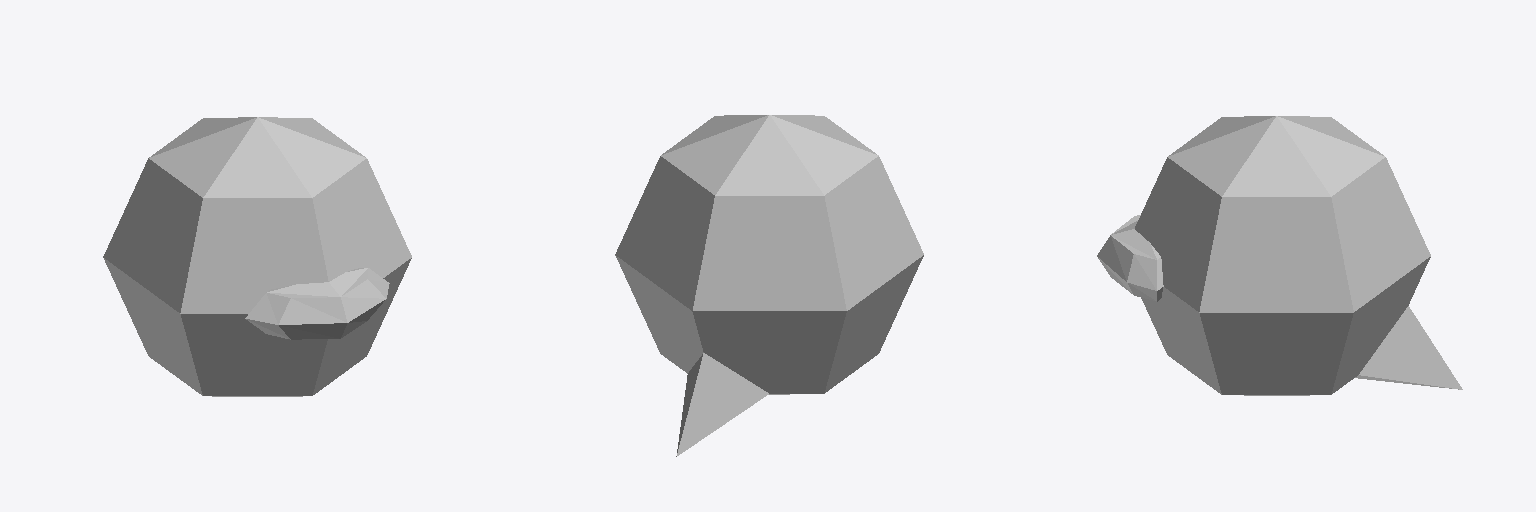
File: zoomboni_temp.obj
3 renders of one model, left to right at view 1: azimuth 30°, elevation 25°; view 2: azimuth 150°, elevation 25°; view 3: azimuth 270°, elevation 25°, orthographic.
Visible parts, largest first — view 1: Sphere, Sphere.001; view 2: Sphere; view 3: Sphere, Sphere.001.
Boxes of the visible parts, <box> form: Sphere: <box>103,117,411,396</box>; Sphere.001: <box>245,268,389,339</box>; Sphere: <box>615,115,923,456</box>; Sphere: <box>1135,116,1462,395</box>; Sphere.001: <box>1097,215,1163,301</box>.
Bounding box in the file's own units: 1.73 × 2 × 2.37.